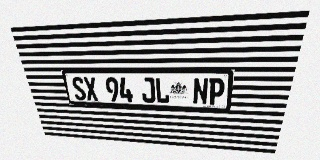4: (118, 77, 133, 102)
9: (105, 77, 120, 102)
J: (141, 77, 156, 103)
L: (155, 77, 169, 103)
N: (193, 78, 209, 105)
P: (208, 78, 225, 105)
S: (71, 77, 87, 100)
X: (83, 77, 99, 101)
